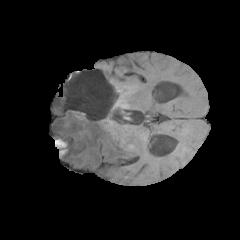glioma: (52, 84, 134, 166)
